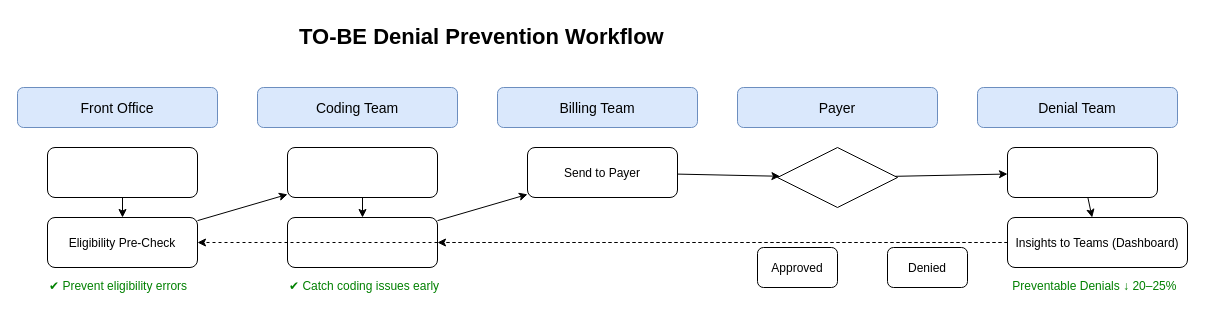
The diagram is 1225 pixels wide and 319 high, and some of its shapes have lost their labels. The shapes that lost their labels are listed below. From the top down, each one's box as (x1, y1, x2, y2) in pixels, then its label:
(46, 146, 198, 198): Capture Patient Info
(286, 146, 438, 198): Assign Codes
(776, 146, 898, 208): Claim Decision
(1006, 146, 1158, 198): Analyze Denial
(286, 216, 438, 268): Coding Validation Rules
